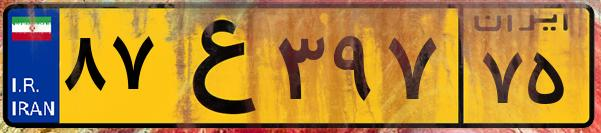3: (270, 28, 330, 110)
5: (525, 38, 570, 115)
7: (385, 28, 445, 110), (475, 38, 525, 113), (110, 28, 158, 98)
8: (57, 26, 110, 100)
9: (330, 28, 385, 110)
ع: (158, 12, 270, 120)
